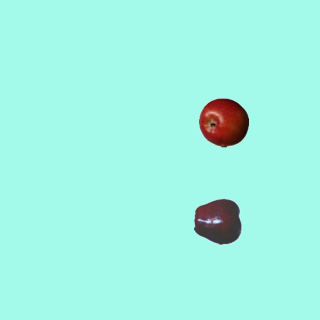Apple Braeburn: (198, 97, 248, 147)
Apple Red Delicious: (193, 196, 243, 246)
